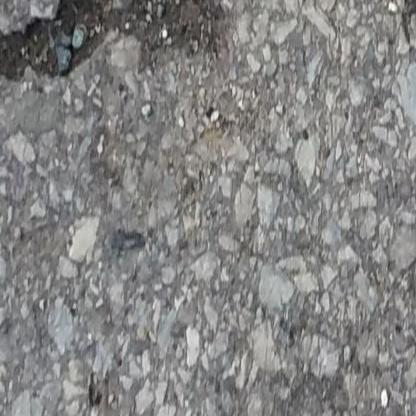Cracks: (0, 0, 230, 82), (382, 0, 416, 43)
